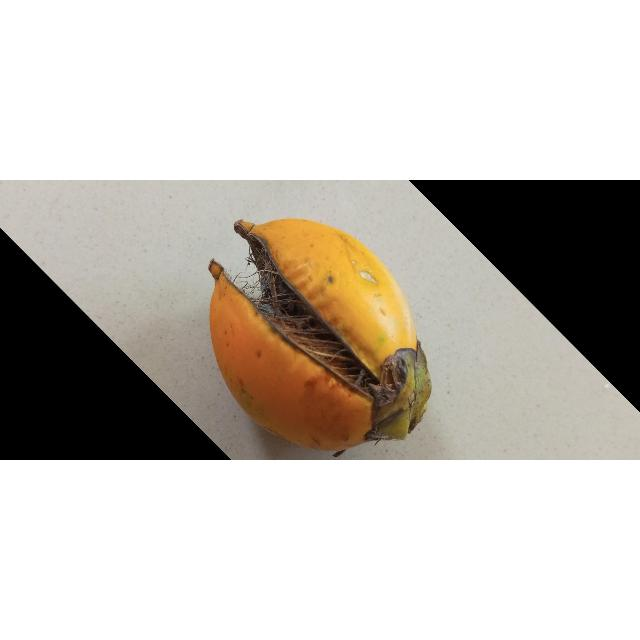damaged: (208, 220, 431, 454)
